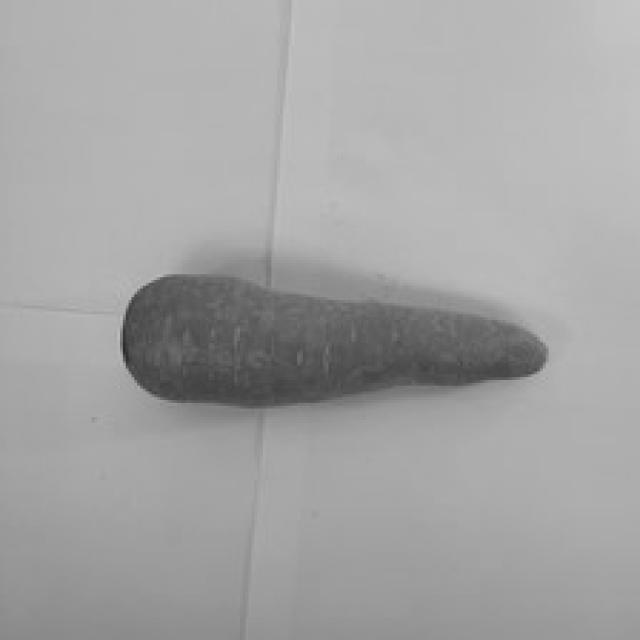Fresh_Carrot: (132, 266, 534, 401)
